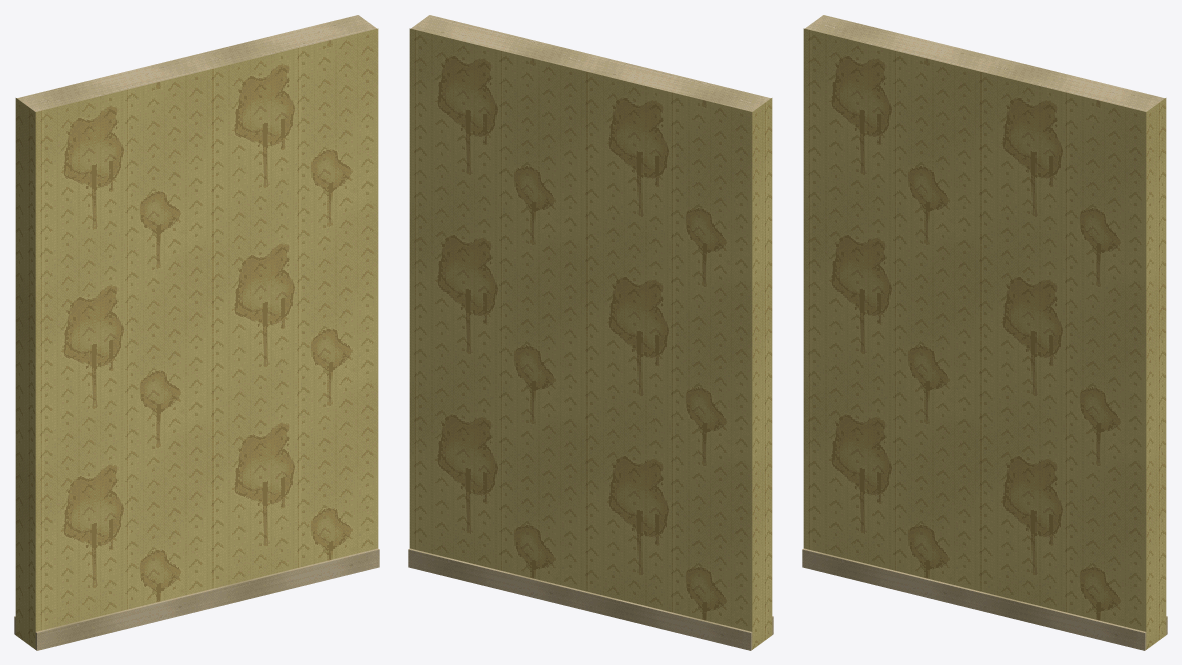
Rendered from back_wall_damp.glb.
3 renders of one model, left to right at view 1: azimuth 30°, elevation 25°; view 2: azimuth 150°, elevation 25°; view 3: azimuth 330°, elevation 25°, orthographic.
Visible parts, largest first — view 1: back_wall_damp; view 2: back_wall_damp; view 3: back_wall_damp.
Part boxes in pixels (left/top/right/bottom): back_wall_damp: left=14, top=15, right=379, bottom=650; back_wall_damp: left=408, top=15, right=773, bottom=650; back_wall_damp: left=802, top=15, right=1167, bottom=650.
Bounding box in the file's own units: 2 × 3 × 0.23.
Materials: 2 (2 with a texture image).
